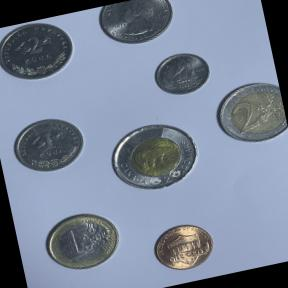1 Euro: (37, 202, 128, 278)
2 Euro: (209, 76, 288, 151)
Canda-10cent-: (148, 44, 217, 102)
Canda-2Dollar-: (101, 112, 209, 200)
Croatia-2Kune-: (0, 13, 80, 88)
US-1cent-: (146, 216, 221, 277)
US-25cent-: (92, 0, 183, 53)
